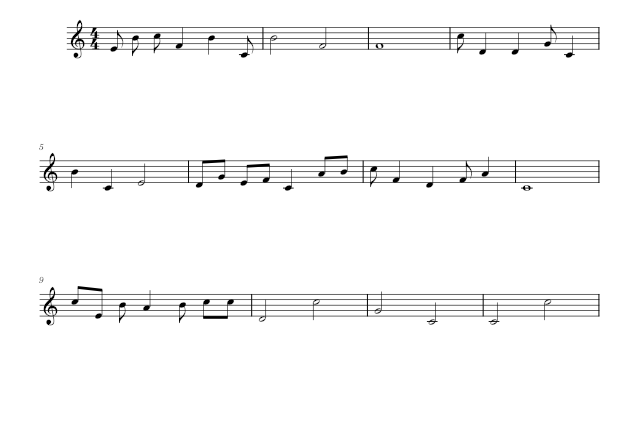Treble Clef: (40, 151, 61, 197), (40, 284, 61, 330), (67, 17, 86, 63)
